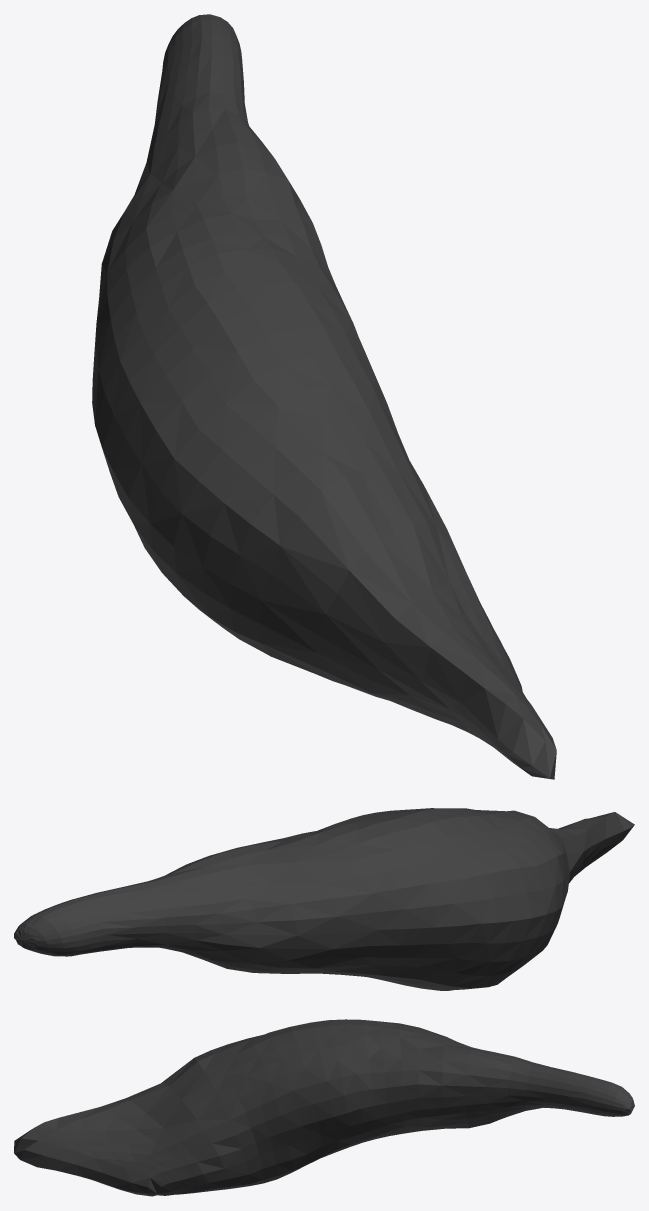
Rendered from TeresMinor_1.glb.
3 renders of one model, top to bottom at view 1: azimuth 30°, elevation 25°; view 2: azimuth 150°, elevation 25°; view 3: azimuth 270°, elevation 25°, orthographic. The views are drawn at different scales.
Visible parts, largest first — view 1: TeresMinor_1; view 2: TeresMinor_1; view 3: TeresMinor_1.
Boxes of the visible parts, x1,y1,x2,y2 form: TeresMinor_1: (92, 14, 556, 779); TeresMinor_1: (14, 808, 634, 990); TeresMinor_1: (14, 1019, 634, 1196).
Size of the model in its own units: 0.00499 by 0.00355 by 0.0124.
Materials: 1 (1 with a texture image).
